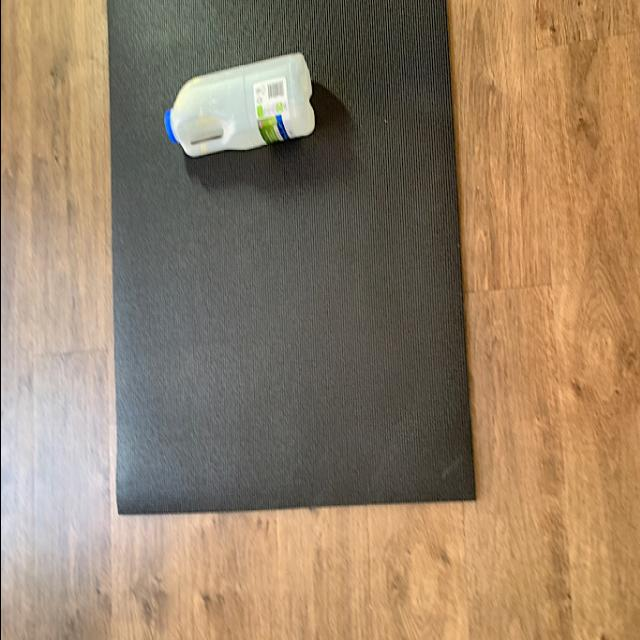HDPEM: (158, 51, 314, 165)
